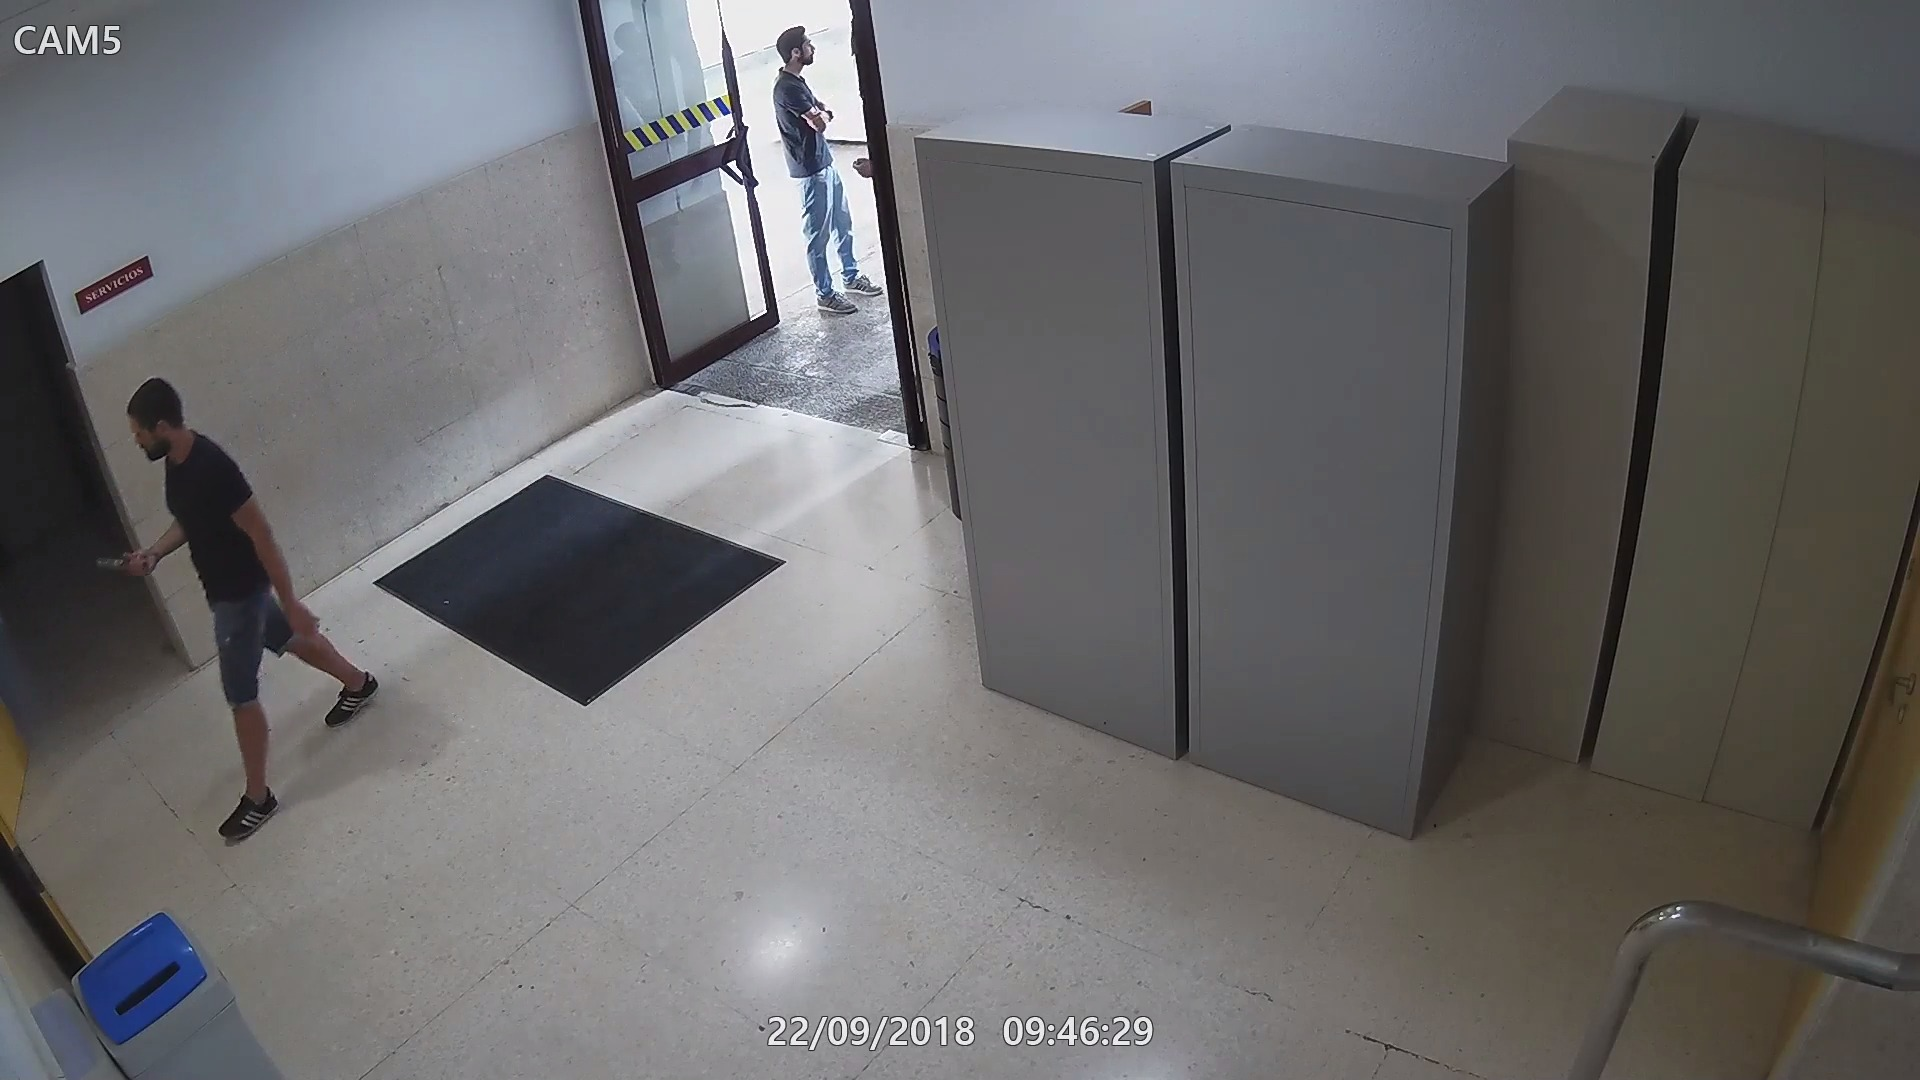pistol: (95, 549, 161, 578)
